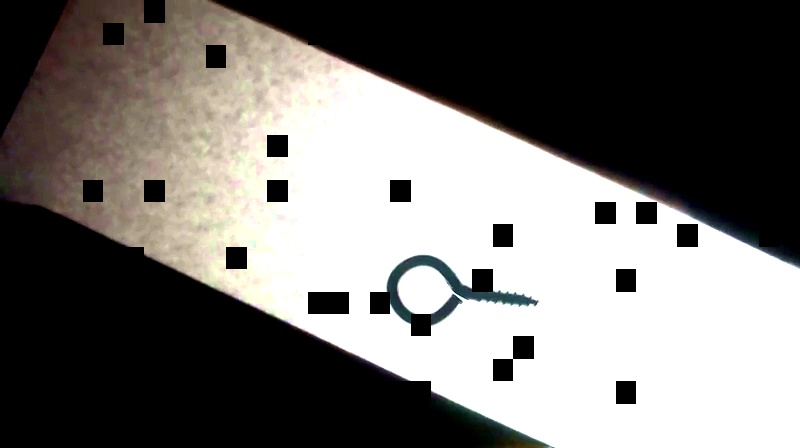O001: (379, 251, 545, 329)
